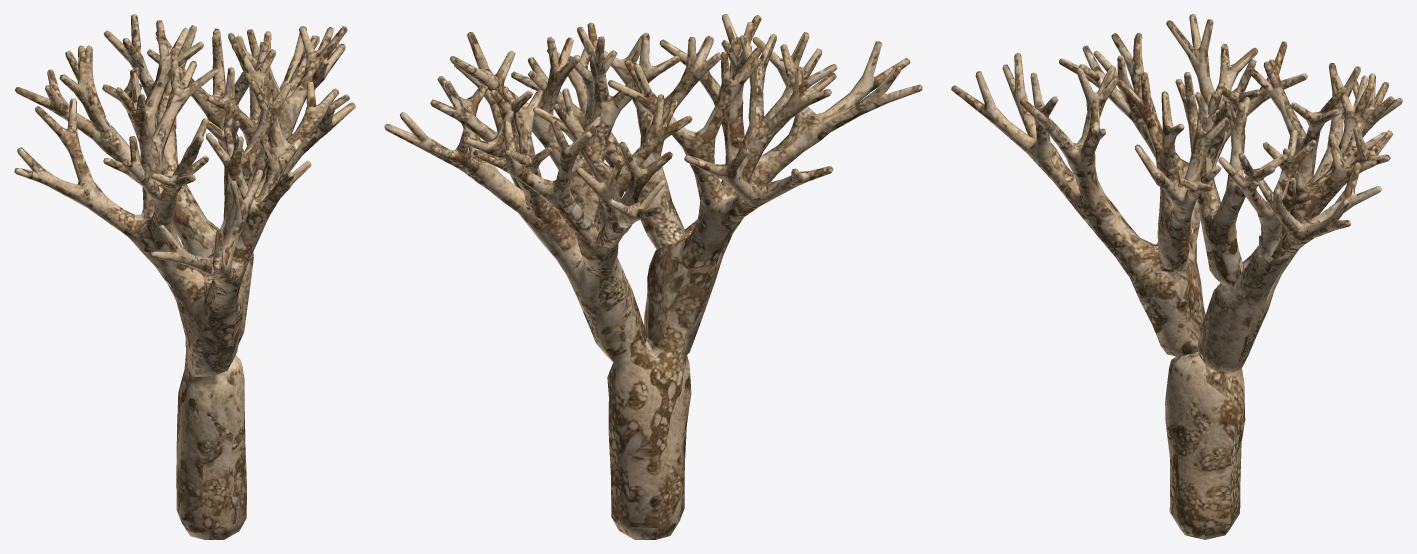
Rendered from coral_tree_a.glb.
The picture shows the model from 3 angles, left to right: view 1: azimuth 30°, elevation 25°; view 2: azimuth 150°, elevation 25°; view 3: azimuth 270°, elevation 25°; orthographic projection. The views are drawn at different scales.
Parts seen in each view (by area): view 1: coral_tree_a; view 2: coral_tree_a; view 3: coral_tree_a.
Part boxes in pixels (left/top/right/bottom): coral_tree_a: left=14, top=14, right=355, bottom=539; coral_tree_a: left=384, top=14, right=922, bottom=539; coral_tree_a: left=951, top=14, right=1402, bottom=539.
Size of the model in its own units: 6.34 by 7.99 by 6.83.
1 material, 1 textured.
